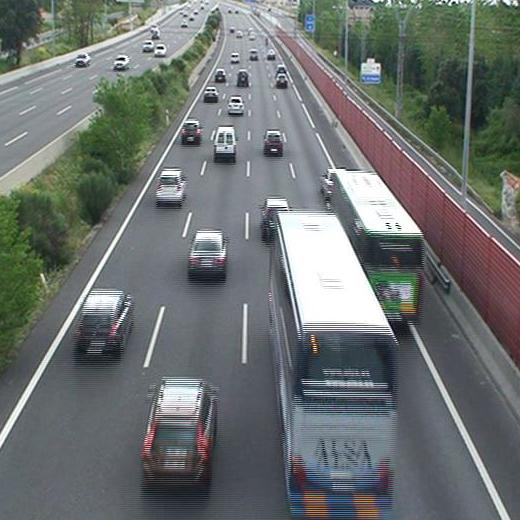bus: (270, 213, 394, 518), (332, 172, 423, 321)
car: (141, 382, 215, 485), (75, 292, 131, 355), (189, 230, 226, 274), (155, 169, 185, 203), (263, 198, 290, 233), (264, 132, 283, 153), (182, 121, 200, 143), (226, 98, 244, 113), (237, 71, 249, 84), (203, 87, 216, 99), (276, 75, 287, 87), (215, 69, 226, 80), (229, 53, 240, 63), (248, 49, 258, 60), (266, 50, 274, 59)
van: (213, 126, 235, 158)
